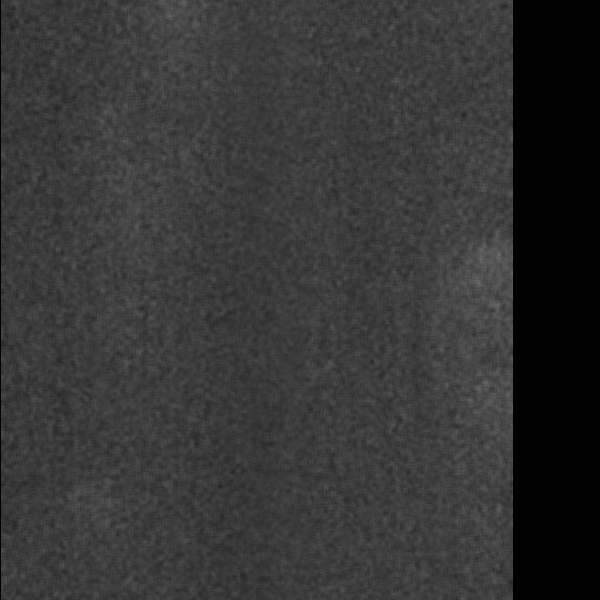spark: (428, 70, 456, 97)
